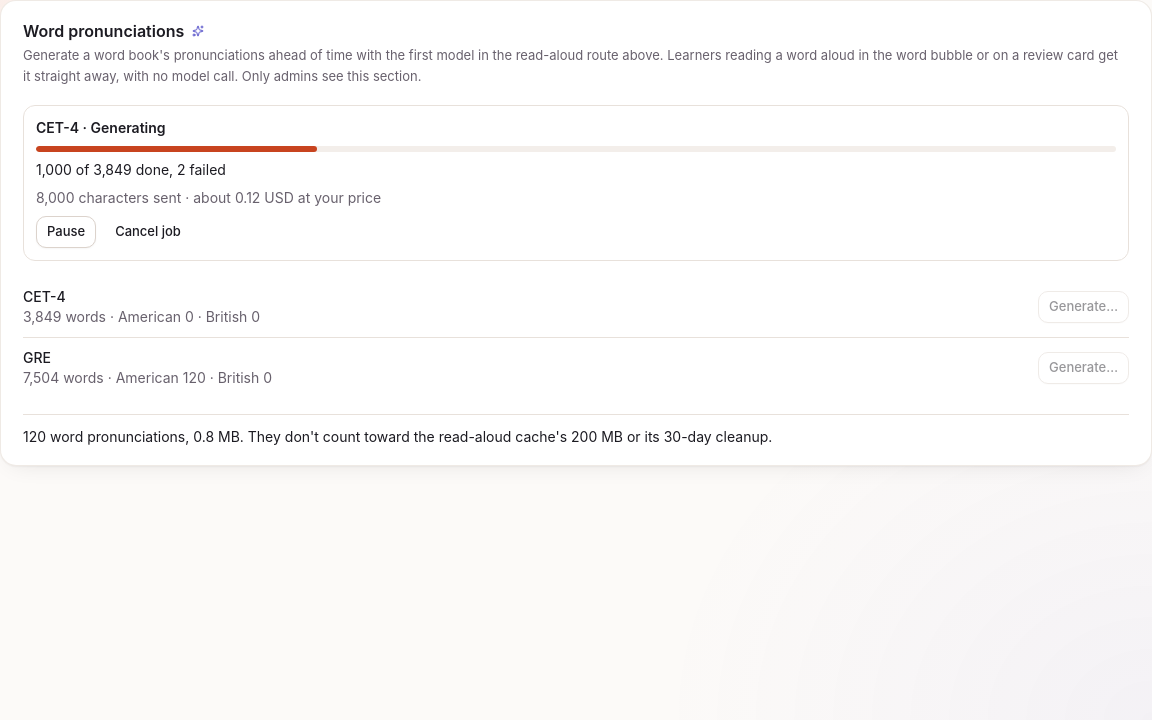
WordAudioSection › pauses a running job and shows why one paused by itself
Click the button "Pause".
click(66, 232)  # box [36,216,96,248]
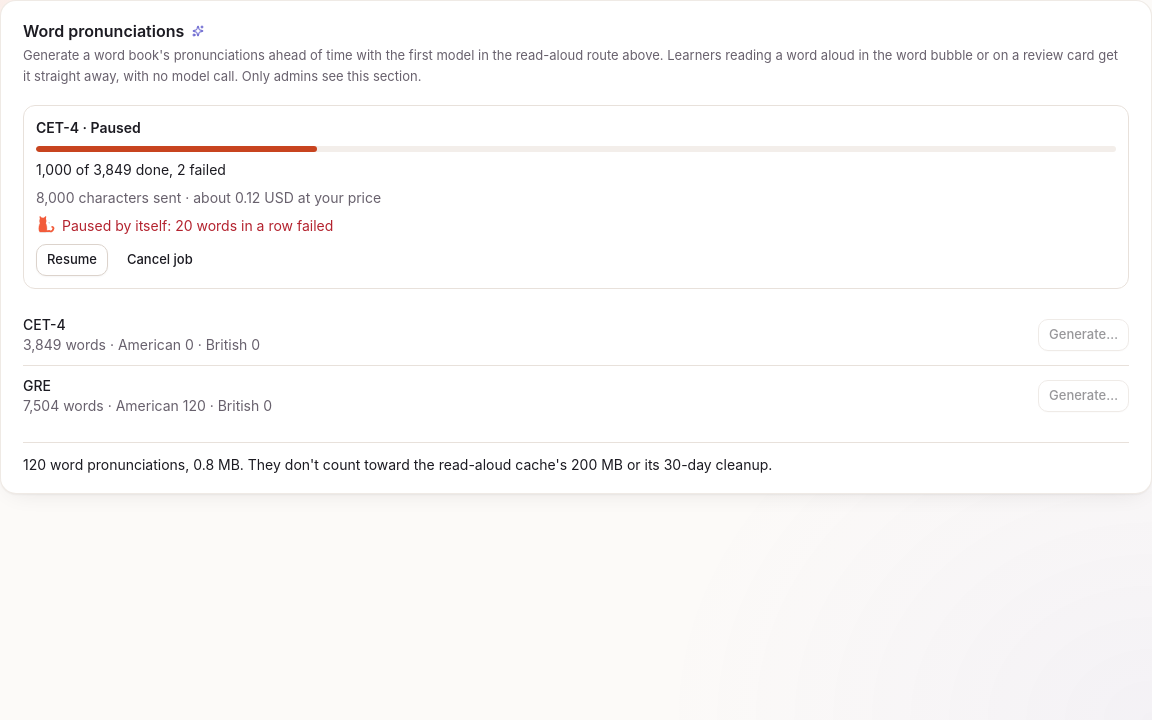
Expected: the button "Resume" is shown, [36,244,108,276]
Expected: the text "Paused by itself: 20 words in a row failed" is shown, [62,216,333,236]
